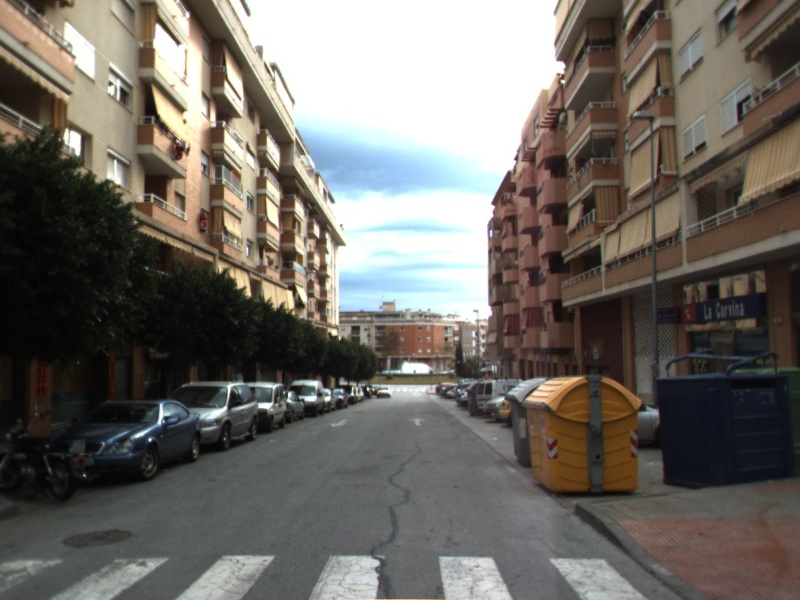STRAIGHT: (407, 415, 427, 428)
